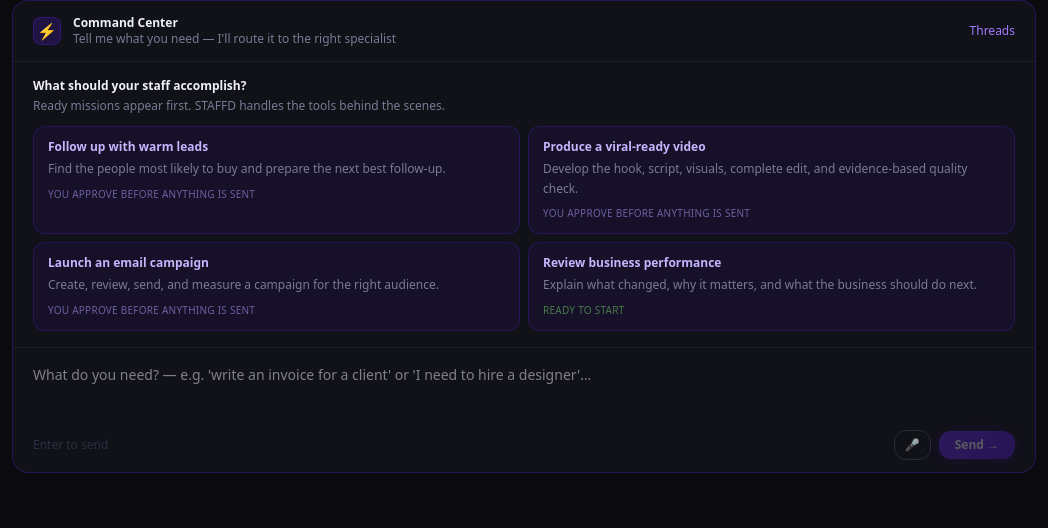
W69.fix.2 — runtime phase-transition (forensic) › phase transitions to 'done' after natural stream completion — not stuck at 'generating'
The width and height of the screenshot is (1048, 528).
# Enter text
Replace the text in the text box with "write a blog post" at (524, 386), box [13,348,1035,424]
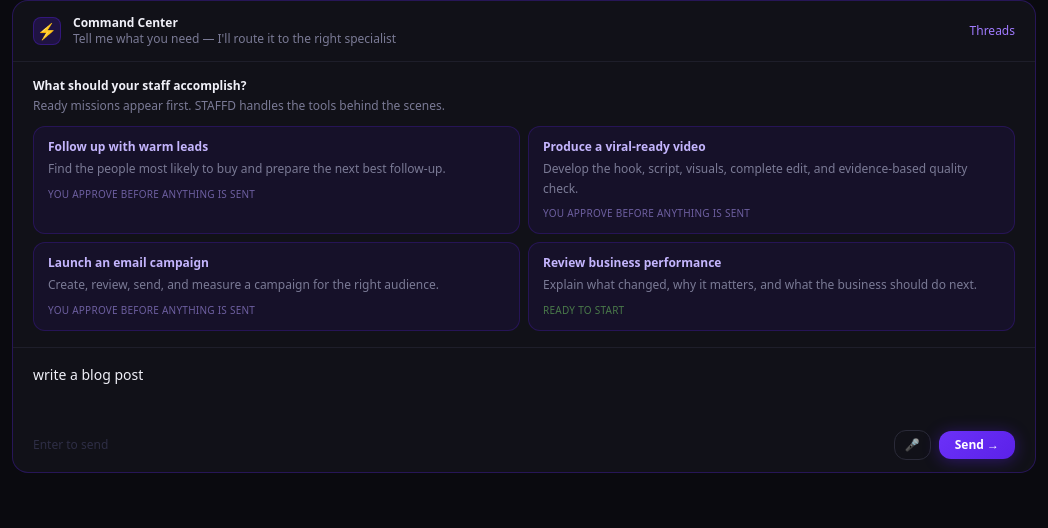
# Submit via Enter (same path as clicking Send)
Press Enter in the text box, box [13,348,1035,424]
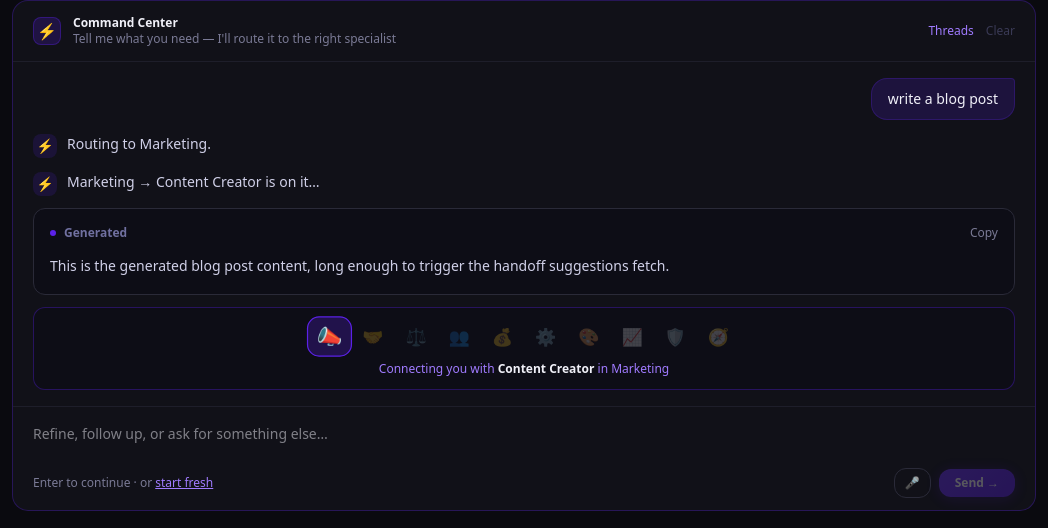
Expected: the text "Enter to continue" is shown, [33,474,152,491]
